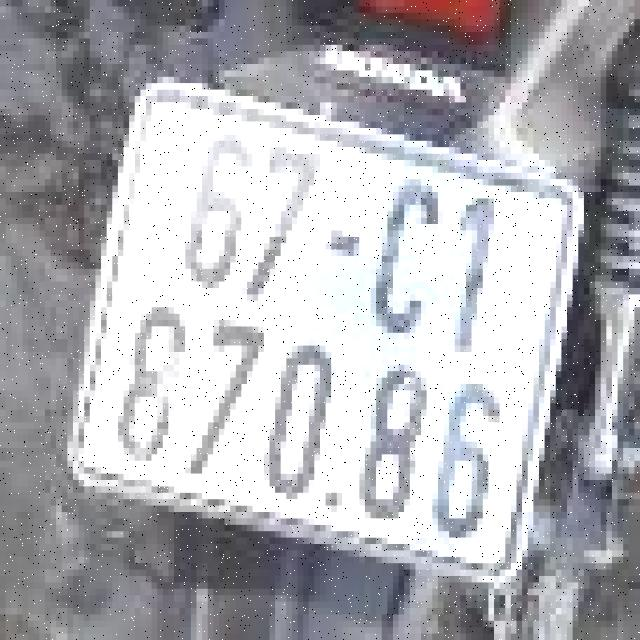0: (267, 314, 334, 512)
1: (446, 179, 497, 371)
6: (174, 103, 253, 294), (435, 374, 503, 541)
7: (180, 288, 264, 493), (244, 118, 323, 317)
8: (357, 342, 435, 534), (110, 292, 188, 470)
C: (370, 144, 432, 342)
